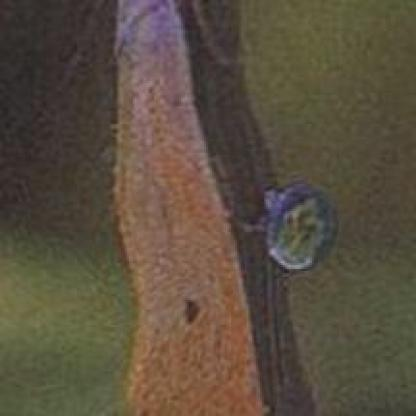stem-borer: (107, 0, 266, 416)
